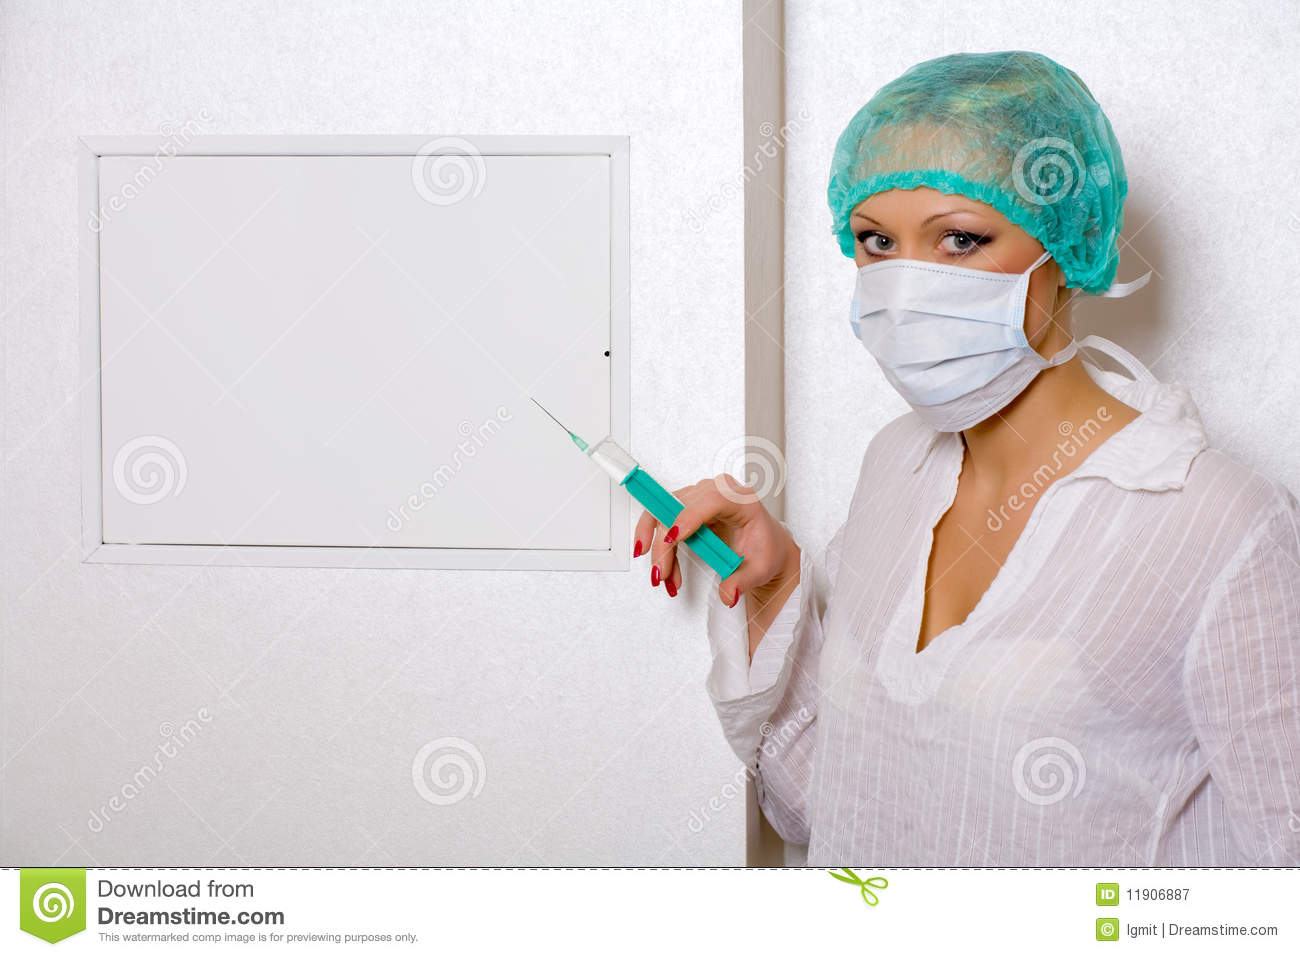mask: (851, 257, 1055, 440)
